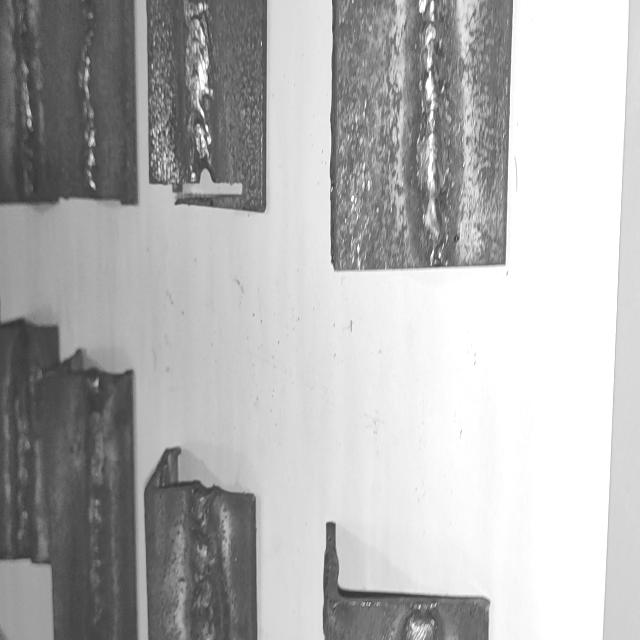Bad Weld: (17, 417, 29, 556)
Defect: (11, 344, 47, 424), (399, 609, 441, 640)
Good Weld: (418, 0, 448, 239), (185, 0, 209, 172), (87, 388, 102, 633), (15, 0, 31, 195), (80, 0, 96, 187), (192, 495, 212, 640)
